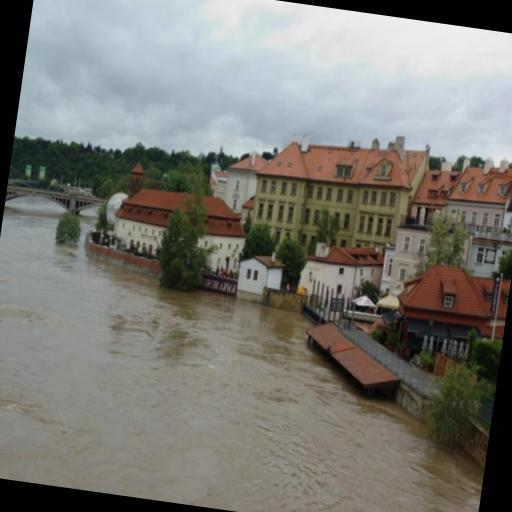flood: (0, 199, 484, 512), (78, 207, 97, 246)
house: (248, 134, 419, 266), (408, 156, 512, 276), (109, 182, 246, 268), (388, 256, 496, 352), (292, 238, 386, 326), (222, 147, 264, 209), (234, 250, 284, 302)
